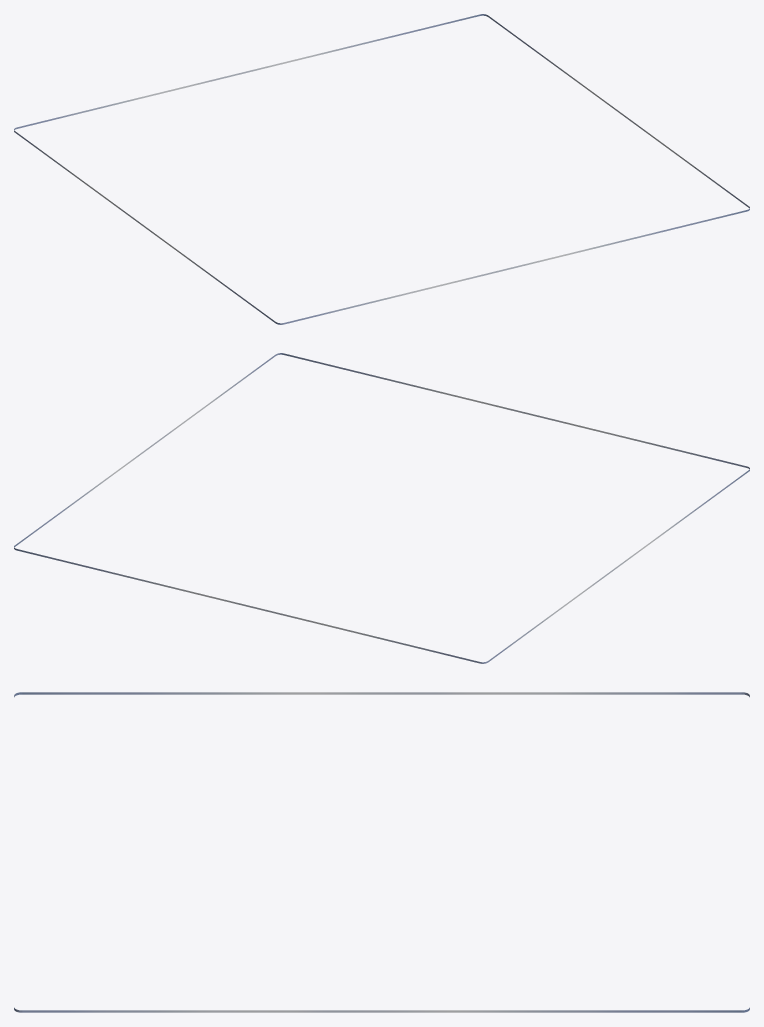
Rendered from LuzSueloMedio.fbx.
The picture shows the model from 3 angles, top to bottom: view 1: azimuth 30°, elevation 25°; view 2: azimuth 150°, elevation 25°; view 3: azimuth 270°, elevation 25°; orthographic projection. The views are drawn at different scales.
Parts seen in each view (by area): view 1: floor_led2; view 2: floor_led2; view 3: floor_led2.
Part boxes in pixels (left/top/right/bottom): floor_led2: left=14, top=14, right=749, bottom=324; floor_led2: left=14, top=353, right=749, bottom=663; floor_led2: left=14, top=692, right=749, bottom=1012.
Size of the model in its own units: 8.86 by 0.03 by 8.66.
Materials: 1 (1 with a texture image).
